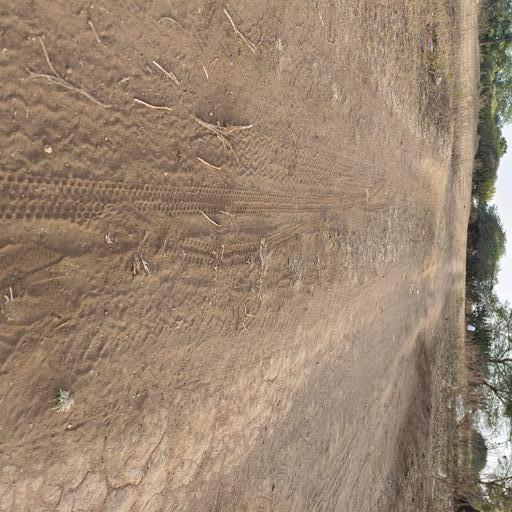vehicle_track: (0, 0, 431, 449)
